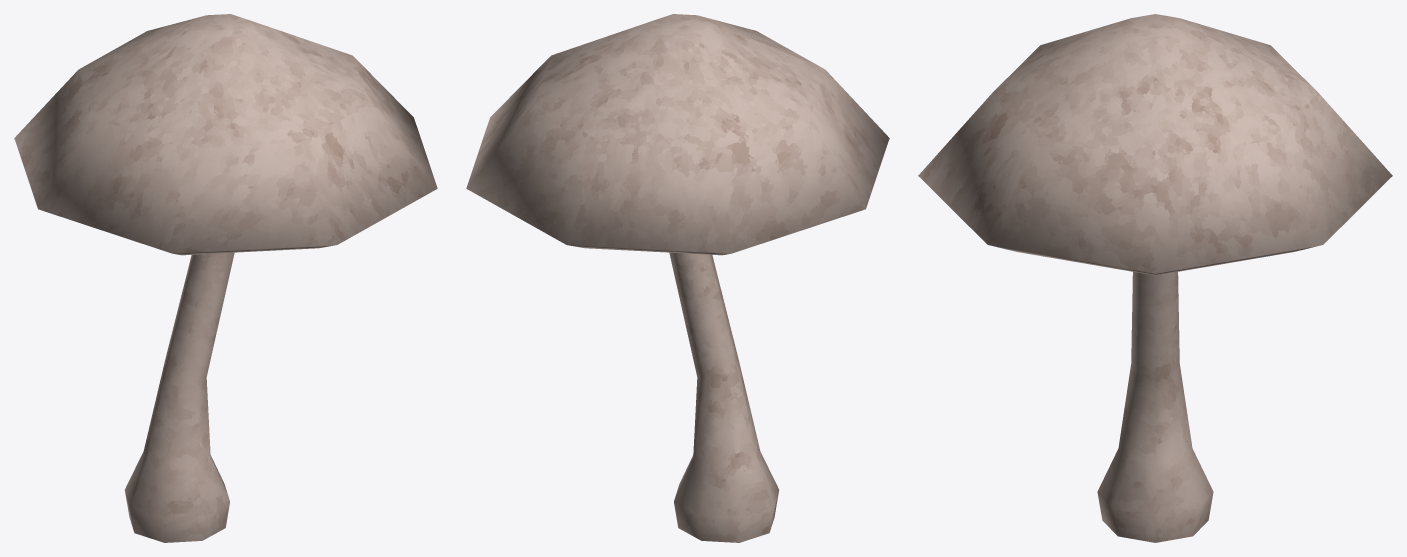
The model's file is art_3D model_Environment_Inocybe 22.fbx.
3 views of the same model, side by side, from view 1: azimuth 30°, elevation 25°; view 2: azimuth 150°, elevation 25°; view 3: azimuth 270°, elevation 25° (orthographic). The views are drawn at different scales.
Visible parts, largest first — view 1: Jamur Inocybe; view 2: Jamur Inocybe; view 3: Jamur Inocybe.
Boxes of the visible parts, x1,y1,x2,y2 form: Jamur Inocybe: [14, 14, 437, 542]; Jamur Inocybe: [466, 14, 889, 542]; Jamur Inocybe: [918, 14, 1392, 542].
Size of the model in its own units: 22.96 by 28.29 by 23.59.
1 material, 1 textured.
